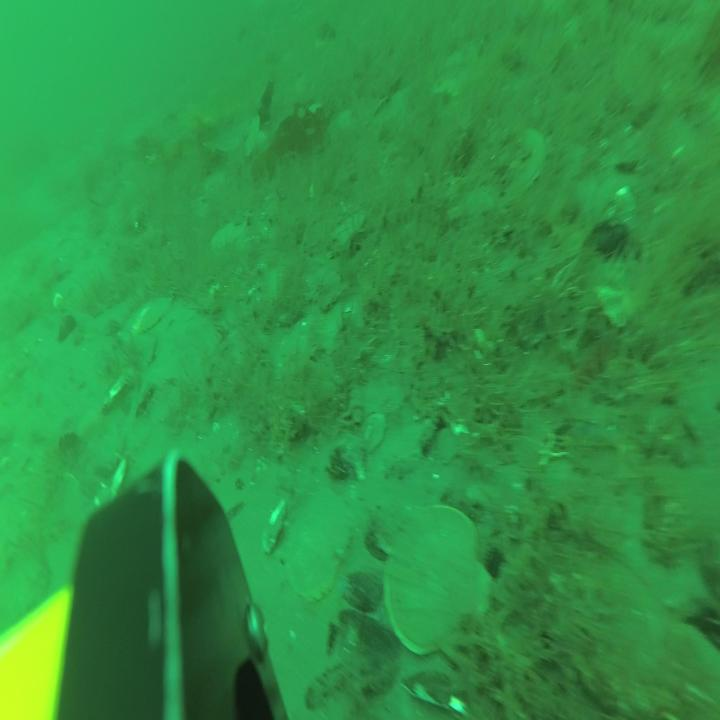scallop: (384, 504, 495, 670), (286, 489, 352, 600), (507, 129, 546, 198), (120, 293, 174, 339), (211, 222, 248, 249)
